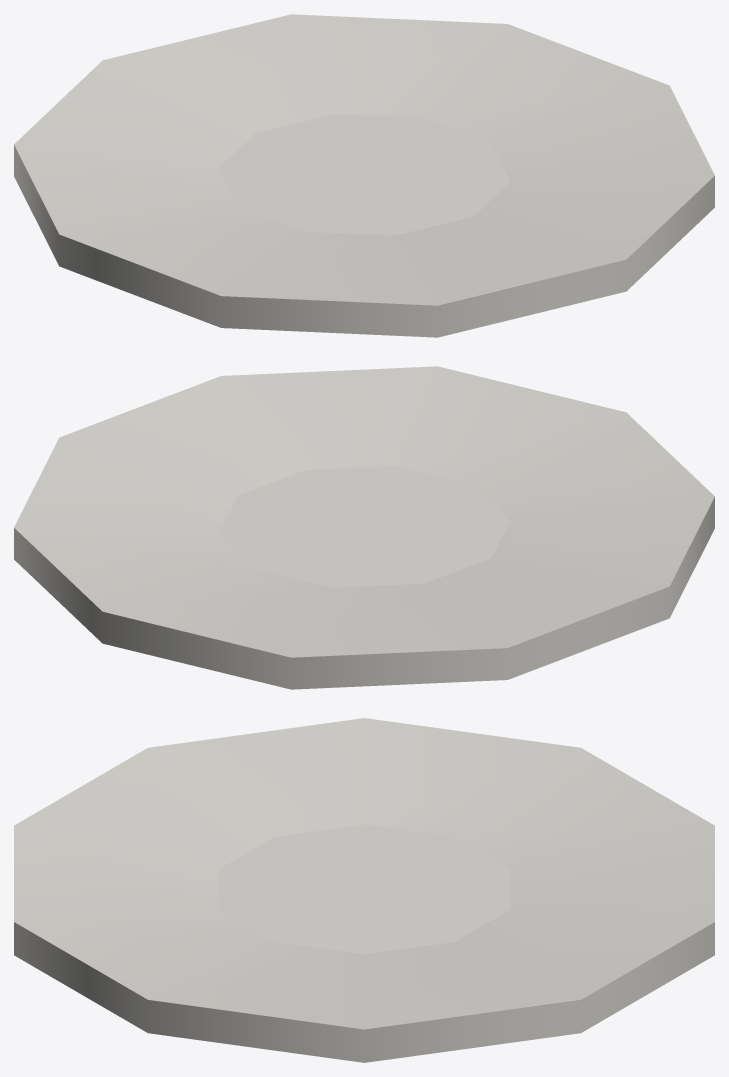
Rendered from Plate.fbx.
3 renders of one model, top to bottom at view 1: azimuth 30°, elevation 25°; view 2: azimuth 150°, elevation 25°; view 3: azimuth 270°, elevation 25°, orthographic. The views are drawn at different scales.
Parts seen in each view (by area): view 1: pCylinder45; view 2: pCylinder45; view 3: pCylinder45.
Boxes of the visible parts, x1,y1,x2,y2 form: pCylinder45: [14, 14, 714, 337]; pCylinder45: [14, 366, 714, 689]; pCylinder45: [14, 718, 714, 1062].
Bounding box in the file's own units: 0.4 × 0.02 × 0.3804.
1 material, 1 textured.
